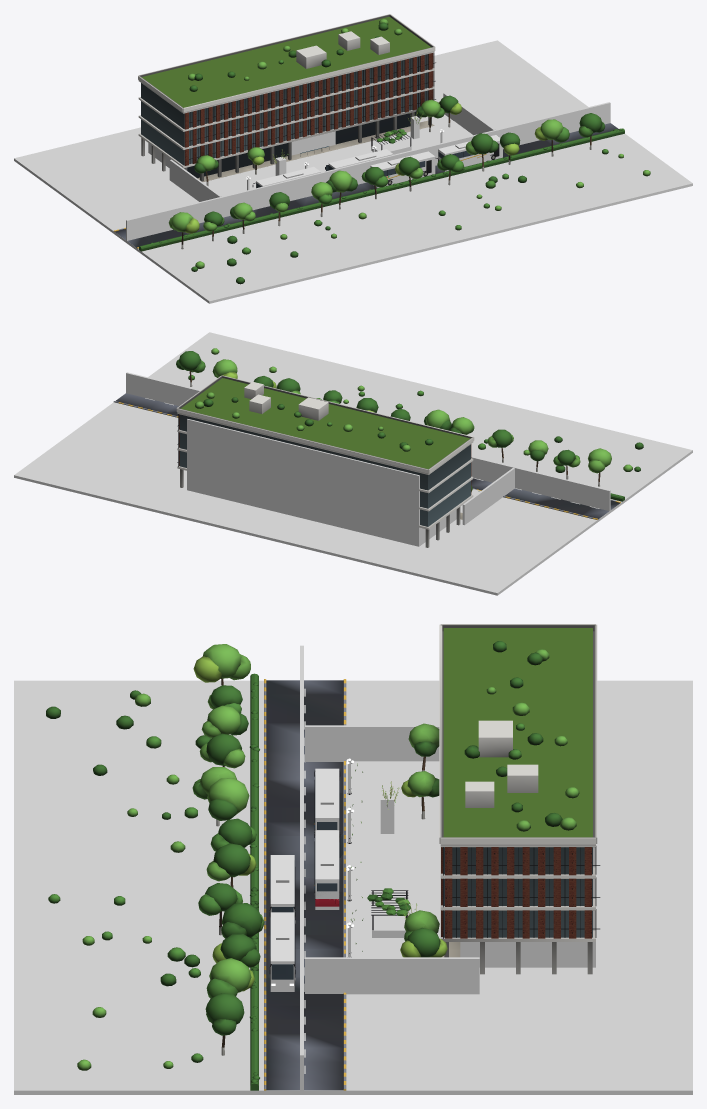
File: zone_01_bus.glb
The picture shows the model from 3 angles, top to bottom: view 1: azimuth 30°, elevation 25°; view 2: azimuth 150°, elevation 25°; view 3: azimuth 270°, elevation 25°; orthographic projection. The views are drawn at different scales.
Parts seen in each view (by area): view 1: COL_ground, ENV_buildings, ENV_vegetation, COL_bien_nam, COL_sidewalk, ENV_ground, COL_bien_tay, ENV_cay_mai, COL_bien_dong, COL_ban_do, ENV_xe_bus_dau_3, xe_bus_mesh (+4 smaller); view 2: COL_ground, COL_toa_nha, ENV_buildings, ENV_vegetation, COL_bien_nam, ENV_ground, COL_bien_tay, ENV_cay_mai; view 3: COL_ground, ENV_buildings, ENV_vegetation, ENV_ground, COL_sidewalk, COL_bien_dong, COL_bien_tay, ENV_props, COL_toa_nha, ENV_cay_mai, xe_bus_mesh, COL_bien_nam (+4 smaller).
Part boxes in pixels (x1,y1,x2,y2): COL_ground: [14, 40, 692, 303]; ENV_buildings: [138, 14, 435, 181]; ENV_vegetation: [139, 95, 650, 284]; COL_bien_nam: [126, 102, 610, 240]; COL_sidewalk: [203, 121, 472, 196]; ENV_ground: [115, 120, 618, 247]; COL_bien_tay: [169, 159, 221, 201]; ENV_cay_mai: [188, 19, 402, 91]; COL_bien_dong: [443, 93, 495, 135]; COL_ban_do: [291, 131, 335, 155]; ENV_xe_bus_dau_3: [371, 151, 438, 185]; xe_bus_mesh: [325, 149, 393, 170]; COL_ground: [14, 332, 692, 595]; COL_toa_nha: [187, 419, 456, 546]; ENV_buildings: [176, 375, 474, 547]; ENV_vegetation: [176, 348, 643, 501]; COL_bien_nam: [126, 372, 610, 510]; ENV_ground: [116, 393, 619, 519]; COL_bien_tay: [462, 468, 514, 525]; ENV_cay_mai: [195, 392, 433, 451]; COL_ground: [14, 680, 692, 1094]; ENV_buildings: [439, 624, 600, 974]; ENV_vegetation: [46, 644, 447, 1090]; ENV_ground: [266, 680, 460, 1090]; COL_sidewalk: [343, 761, 440, 957]; COL_bien_dong: [305, 957, 479, 994]; COL_bien_tay: [305, 725, 439, 761]; ENV_props: [264, 679, 410, 1090]; COL_toa_nha: [460, 847, 595, 967]; ENV_cay_mai: [464, 641, 579, 831]; xe_bus_mesh: [314, 830, 340, 906]; COL_bien_nam: [300, 645, 303, 1090].
Size of the model in its own units: 100 by 18.2 by 70.
Materials: 5 (2 with a texture image).
